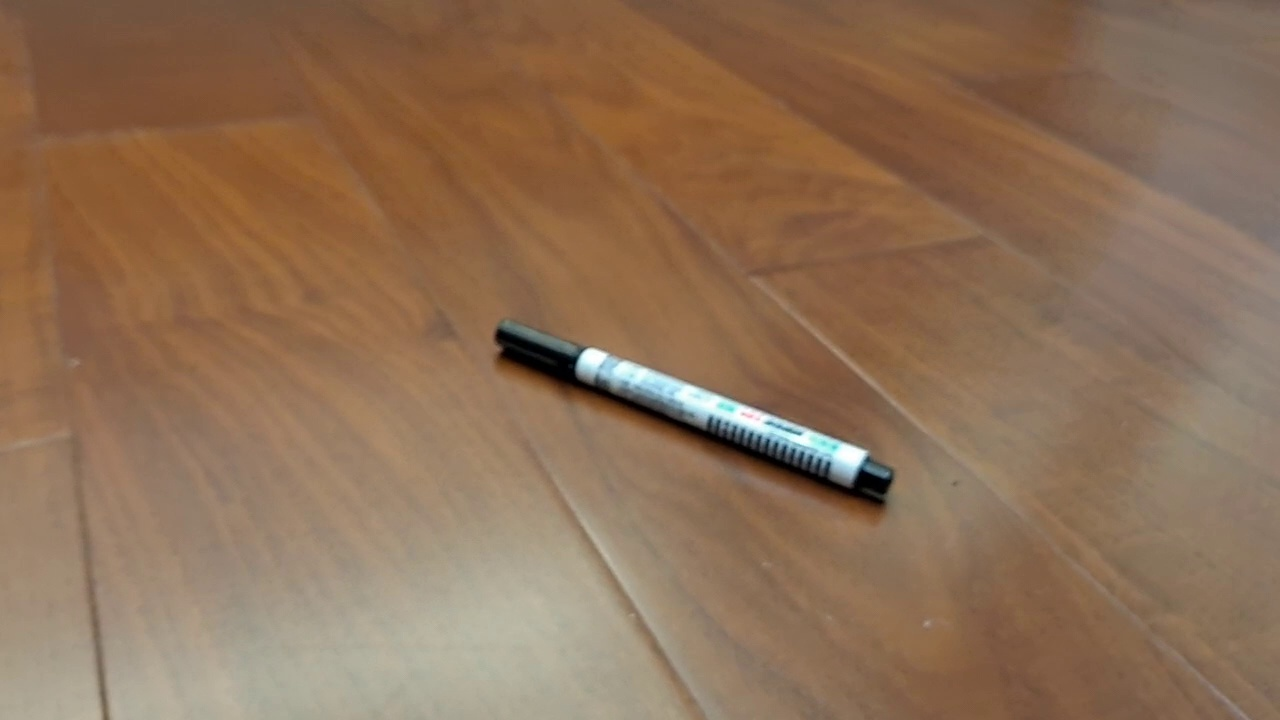pen: (493, 317, 896, 496)
